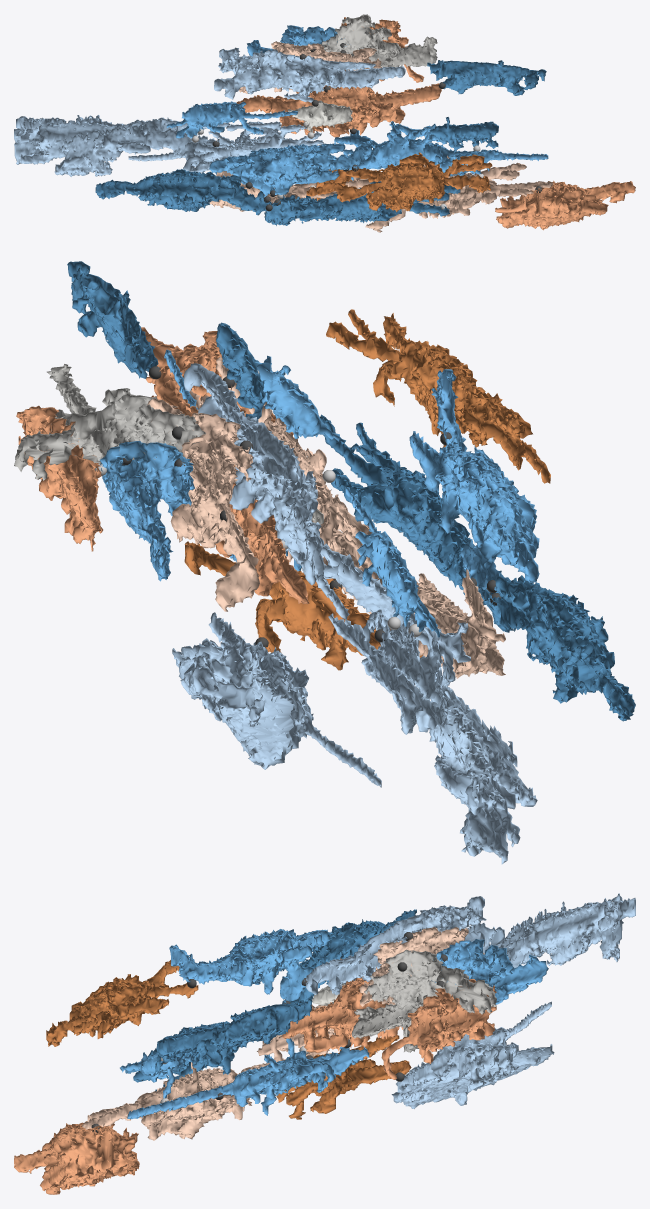
The model's file is sample_1_4_group_1.glb.
The picture shows the model from 3 angles, top to bottom: view 1: azimuth 30°, elevation 25°; view 2: azimuth 150°, elevation 25°; view 3: azimuth 270°, elevation 25°; orthographic projection. The views are drawn at different scales.
Parts seen in each view (by area): view 1: osteocyte_60_elongated, osteocyte_218_elongated, osteocyte_108_round, osteocyte_99_elongated, osteocyte_123_round, osteocyte_52_elongated, osteocyte_36_round, osteocyte_47_elongated, osteocyte_62_elongated, osteocyte_244_untyped, osteocyte_44_round, osteocyte_234_elongated (+11 smaller); view 2: osteocyte_60_elongated, osteocyte_24_elongated, osteocyte_99_elongated, osteocyte_108_round, osteocyte_52_elongated, osteocyte_218_elongated, osteocyte_170_round, osteocyte_47_elongated, osteocyte_244_untyped, osteocyte_173_elongated, osteocyte_27_round, osteocyte_163_round (+9 smaller); view 3: osteocyte_24_elongated, osteocyte_60_elongated, osteocyte_244_untyped, osteocyte_99_elongated, osteocyte_36_round, osteocyte_44_round, osteocyte_62_elongated, osteocyte_108_round, osteocyte_218_elongated, osteocyte_163_round, osteocyte_123_round, osteocyte_173_elongated (+8 smaller).
Boxes of the visible parts, left/top/right/bottom form: osteocyte_60_elongated: left=14, top=115, right=229, bottom=176; osteocyte_218_elongated: left=214, top=47, right=405, bottom=102; osteocyte_108_round: left=306, top=152, right=492, bottom=211; osteocyte_99_elongated: left=209, top=141, right=373, bottom=196; osteocyte_123_round: left=236, top=83, right=441, bottom=137; osteocyte_52_elongated: left=95, top=169, right=271, bottom=215; osteocyte_36_round: left=495, top=180, right=635, bottom=230; osteocyte_47_elongated: left=264, top=181, right=460, bottom=225; osteocyte_62_elongated: left=334, top=121, right=548, bottom=180; osteocyte_244_untyped: left=321, top=14, right=437, bottom=67; osteocyte_44_round: left=316, top=155, right=553, bottom=232; osteocyte_234_elongated: left=427, top=60, right=546, bottom=95; osteocyte_60_elongated: left=328, top=613, right=537, bottom=864; osteocyte_24_elongated: left=172, top=612, right=381, bottom=787; osteocyte_99_elongated: left=409, top=369, right=539, bottom=591; osteocyte_108_round: left=326, top=309, right=550, bottom=483; osteocyte_52_elongated: left=478, top=575, right=635, bottom=721; osteocyte_218_elongated: left=184, top=363, right=324, bottom=585; osteocyte_170_round: left=147, top=398, right=259, bottom=611; osteocyte_47_elongated: left=320, top=414, right=511, bottom=594; osteocyte_244_untyped: left=14, top=364, right=205, bottom=482; osteocyte_173_elongated: left=99, top=441, right=194, bottom=581; osteocyte_27_round: left=184, top=541, right=422, bottom=670; osteocyte_163_round: left=16, top=405, right=103, bottom=551; osteocyte_24_elongated: left=391, top=1001, right=554, bottom=1108; osteocyte_60_elongated: left=467, top=893, right=635, bottom=967; osteocyte_244_untyped: left=352, top=949, right=496, bottom=1052; osteocyte_99_elongated: left=169, top=929, right=330, bottom=1004; osteocyte_36_round: left=14, top=1122, right=139, bottom=1194; osteocyte_44_round: left=82, top=1035, right=329, bottom=1140; osteocyte_62_elongated: left=127, top=1038, right=369, bottom=1119; osteocyte_108_round: left=46, top=960, right=198, bottom=1046; osteocyte_218_elongated: left=305, top=896, right=486, bottom=994; osteocyte_163_round: left=381, top=979, right=496, bottom=1079; osteocyte_123_round: left=282, top=976, right=403, bottom=1052; osteocyte_173_elongated: left=431, top=939, right=548, bottom=1004.
Size of the model in its own units: 159 by 46.01 by 151.
